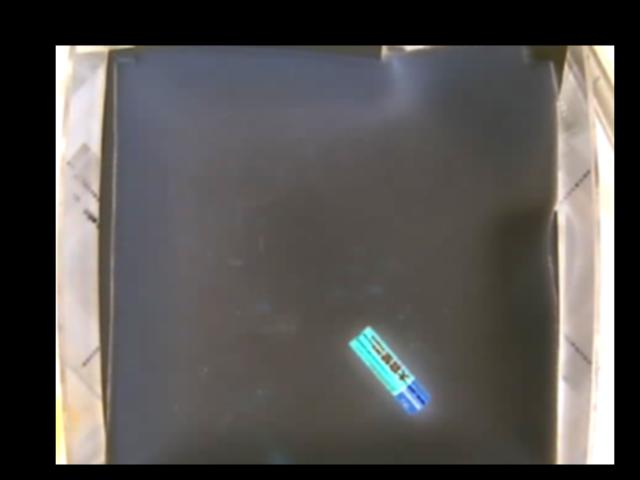Battery: (345, 326, 428, 413)
